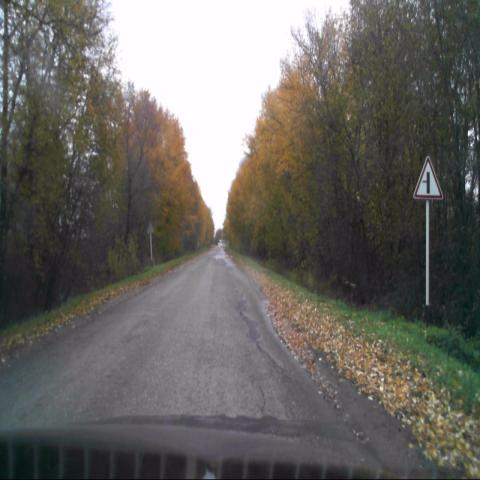2_3_3: (412, 155, 444, 203)
